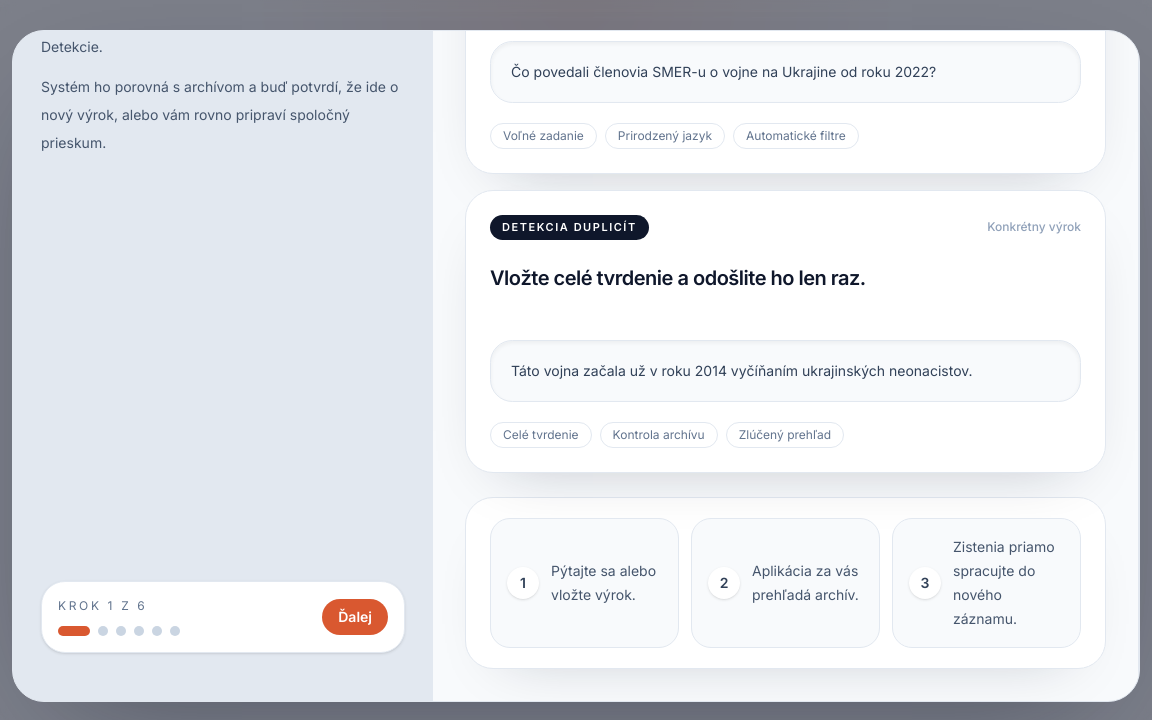
HomeOnboarding › navigates directly through progress dots
The width and height of the screenshot is (1152, 720).
(page scrolled)
Click the button named "Prejsť na krok 3" at point(121, 630), box top-left (116, 626), bottom-right (126, 636)
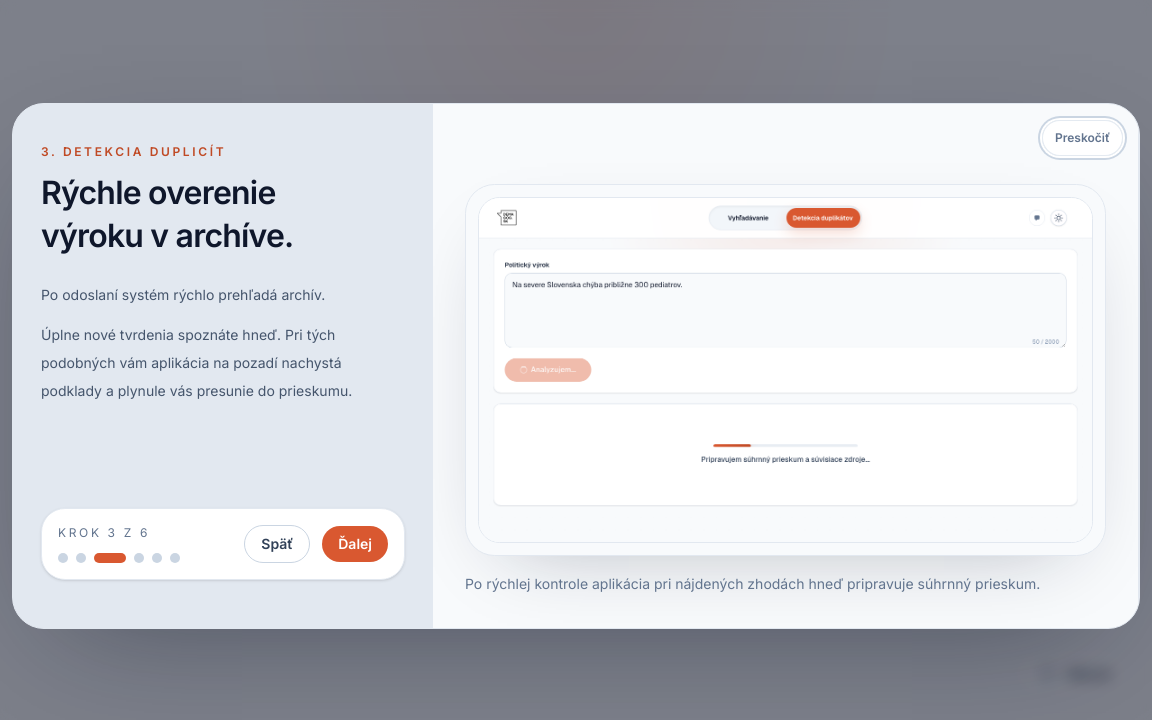
Check: the heading "Rýchle overenie výroku v archíve." is shown, box top-left (41, 173), bottom-right (294, 255)
Check: the text "3. Detekcia duplicít" is shown, box top-left (41, 144), bottom-right (226, 159)
Check: the text "Po odoslaní systém rýchlo prehľadá archív." is shown, box top-left (41, 286), bottom-right (325, 303)
